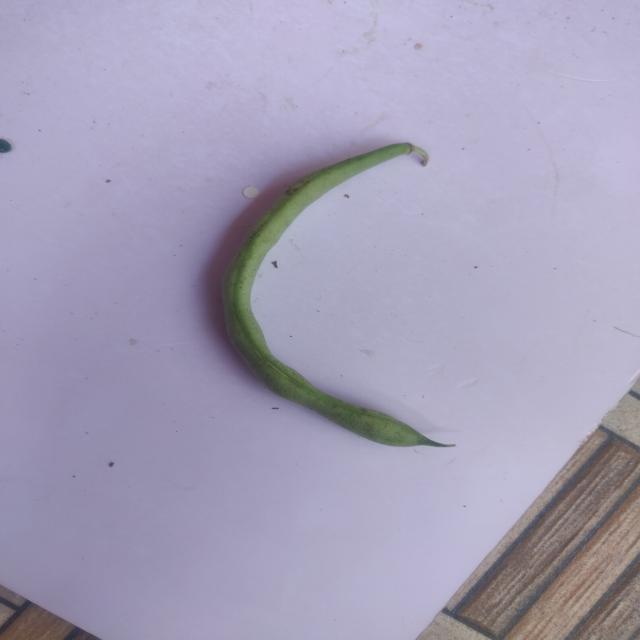Beans: (174, 126, 460, 460)
